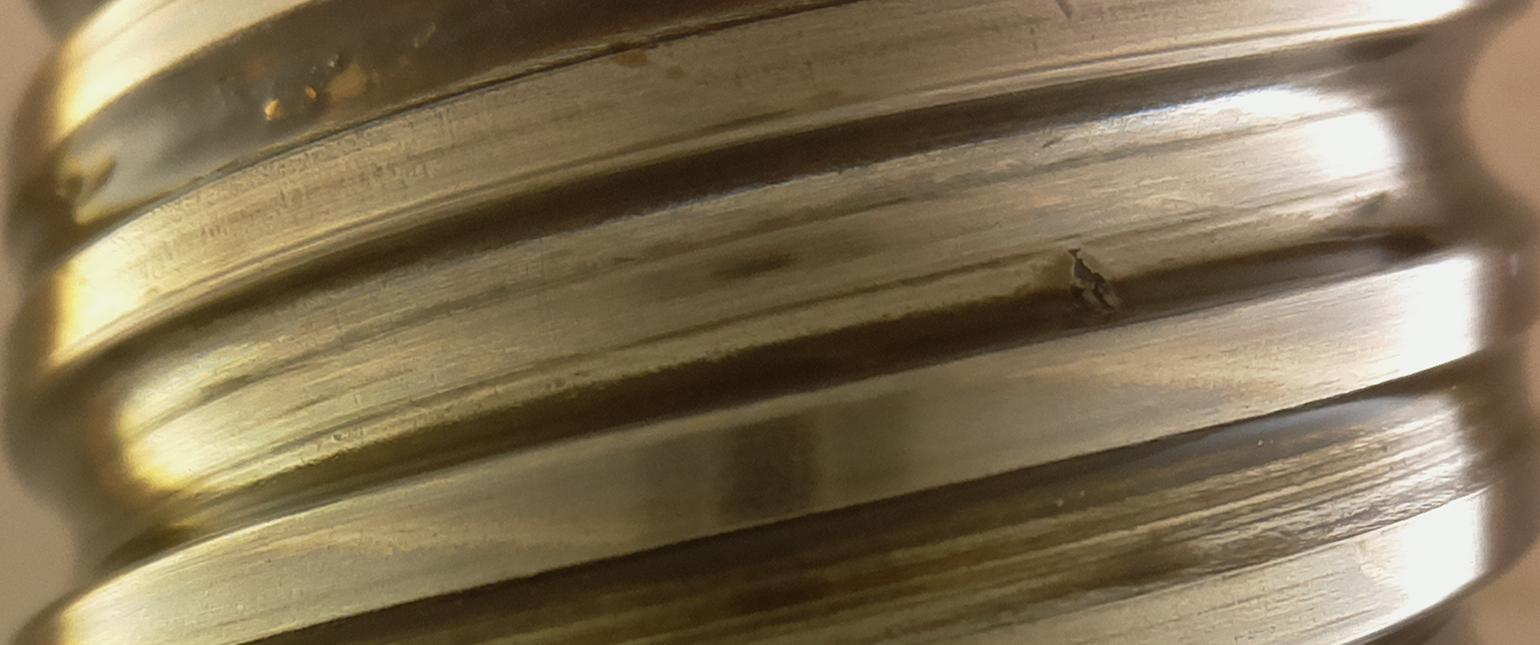pitting: (1066, 247, 1116, 323)
